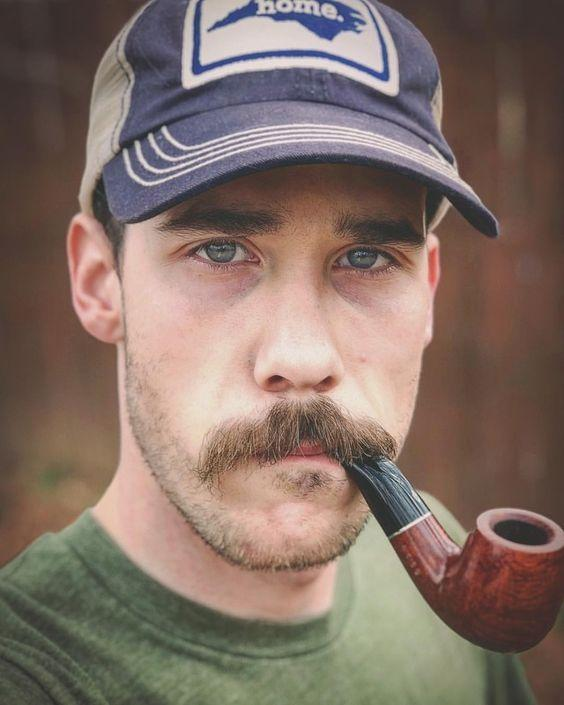trubka: (347, 455, 563, 652)
